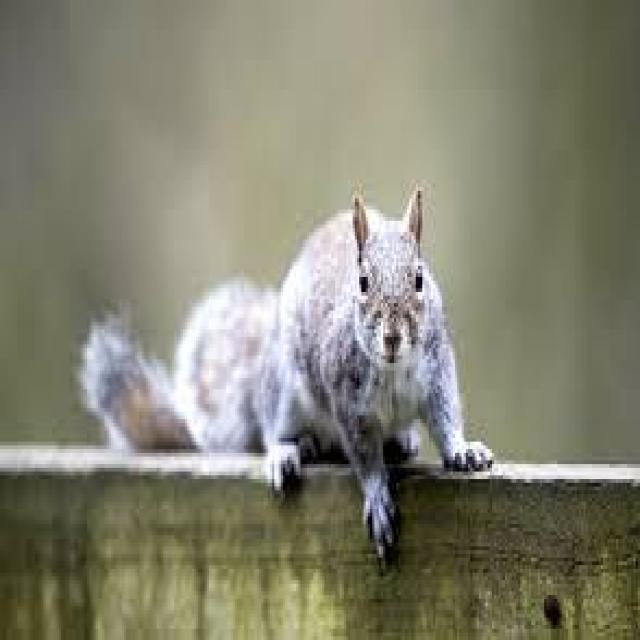license-plate: (58, 190, 545, 582)
